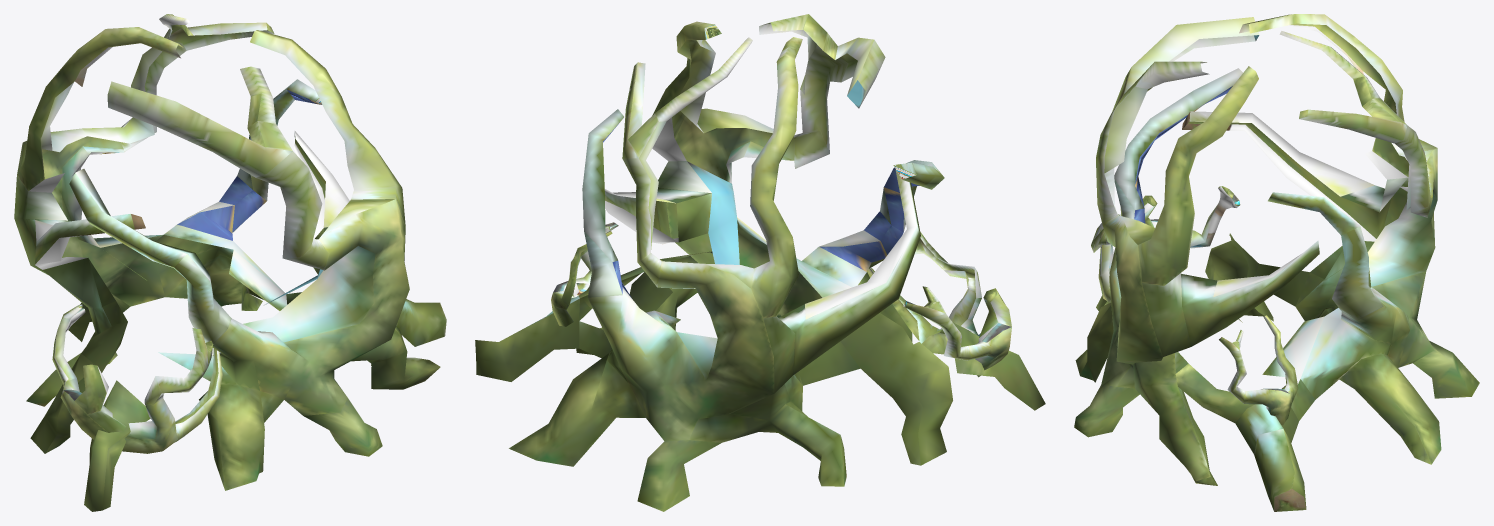
Rendered from gonghui_fuhuashi_01 #16111.fbx.
3 renders of one model, left to right at view 1: azimuth 30°, elevation 25°; view 2: azimuth 150°, elevation 25°; view 3: azimuth 270°, elevation 25°, orthographic. The views are drawn at different scales.
Visible parts, largest first — view 1: gonghui_fuhuashi_01; view 2: gonghui_fuhuashi_01; view 3: gonghui_fuhuashi_01.
Boxes of the visible parts, <box> form: gonghui_fuhuashi_01: <box>14,14,446,511</box>; gonghui_fuhuashi_01: <box>475,14,1045,511</box>; gonghui_fuhuashi_01: <box>1074,14,1479,511</box>.
Size of the model in its own units: 4.13 by 3.31 by 3.36.
